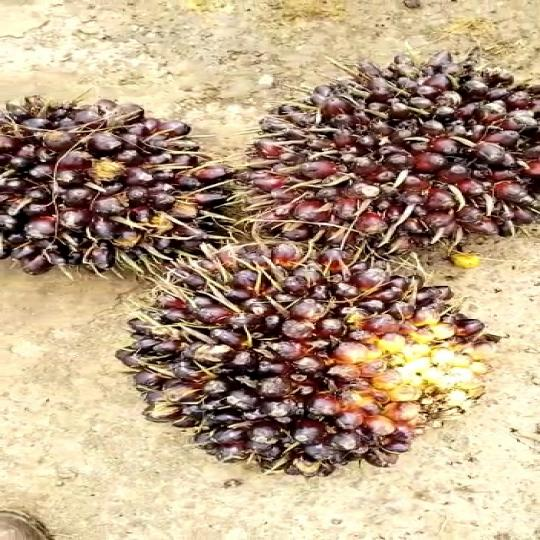mentah: (101, 226, 504, 488), (237, 39, 540, 257), (0, 81, 250, 285)
